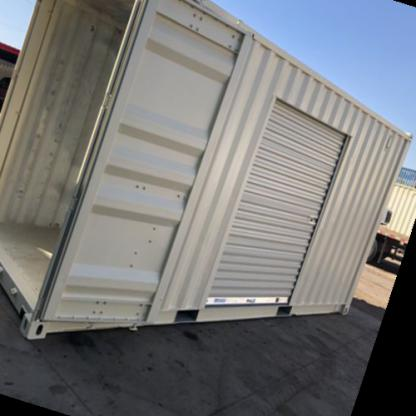Damage: (12, 23, 90, 204), (104, 159, 195, 314)
